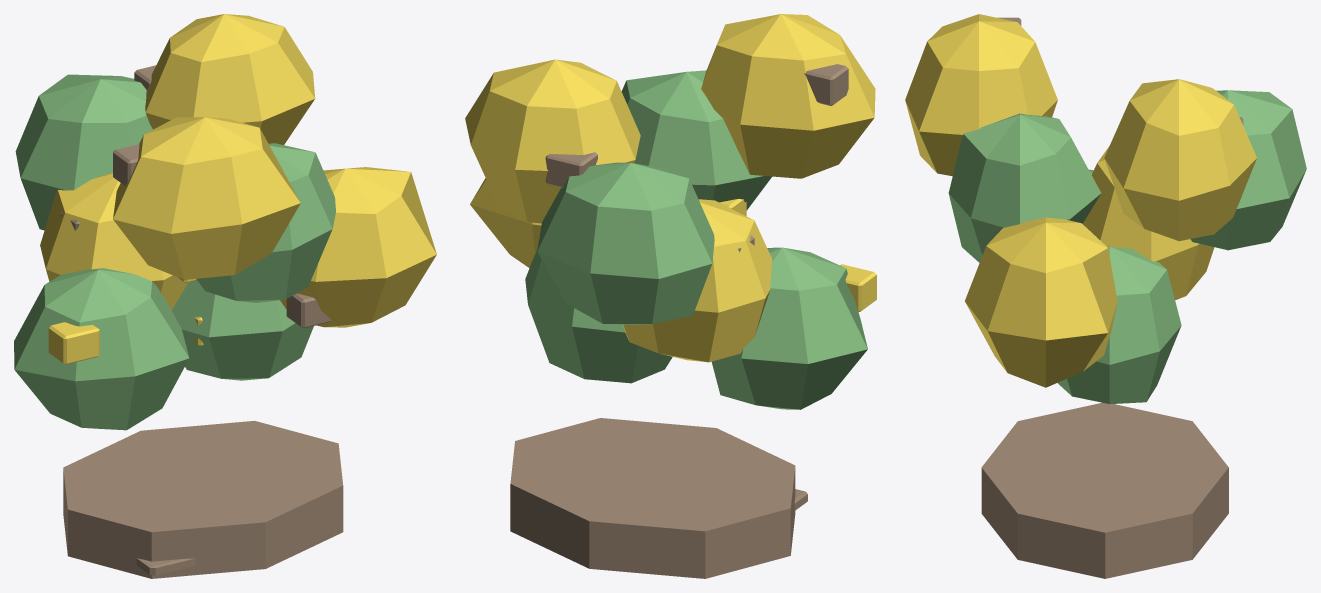
Rendered from b08_daffodil_cluster.glb.
The picture shows the model from 3 angles, left to right: view 1: azimuth 30°, elevation 25°; view 2: azimuth 150°, elevation 25°; view 3: azimuth 270°, elevation 25°; orthographic projection. The views are drawn at different scales.
Parts seen in each view (by area): view 1: b08_daffodil_cluster; view 2: b08_daffodil_cluster; view 3: b08_daffodil_cluster.
Boxes of the visible parts, x1,y1,x2,y2 form: b08_daffodil_cluster: [14, 14, 436, 578]; b08_daffodil_cluster: [465, 14, 876, 578]; b08_daffodil_cluster: [905, 14, 1306, 578].
Size of the model in its own units: 0.477 by 0.541 by 0.426.
